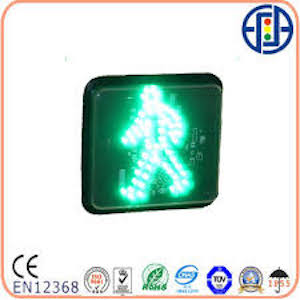green: (114, 84, 212, 212)
